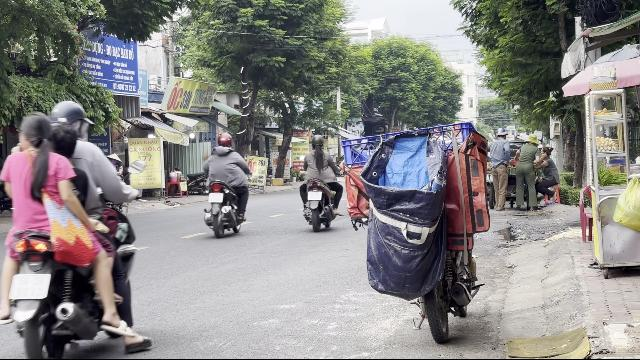helmet: (48, 100, 90, 138), (216, 132, 232, 148), (310, 134, 324, 150)
licenseplate: (10, 274, 48, 300), (208, 194, 224, 202), (308, 192, 322, 200)
motorcyclist: (0, 99, 144, 356), (202, 131, 250, 236), (298, 134, 342, 230)
nohelmet: (16, 114, 52, 150), (48, 130, 78, 158)
